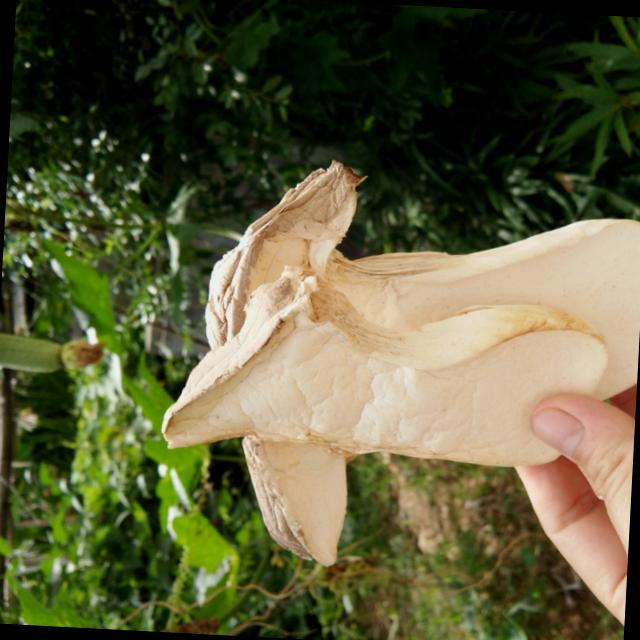Pleurotus eryngii: (160, 154, 640, 503)
